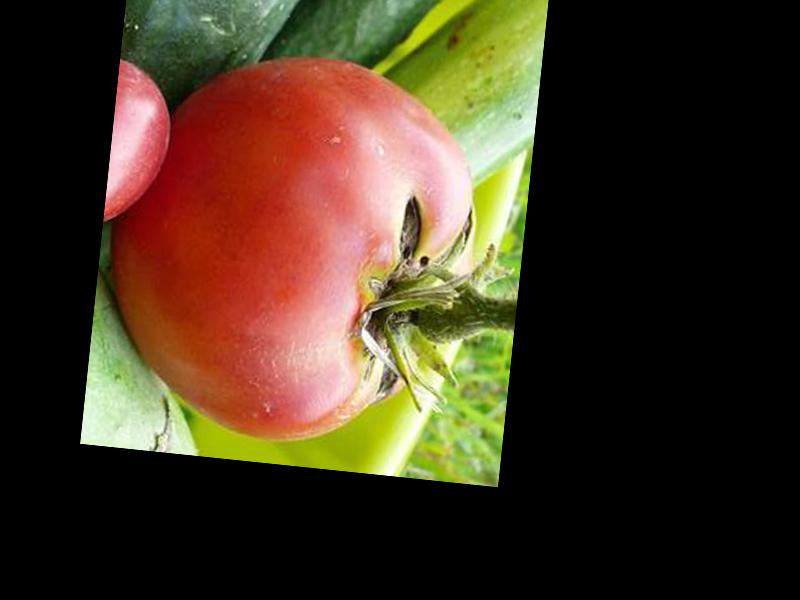Tomato: (91, 41, 485, 459)
